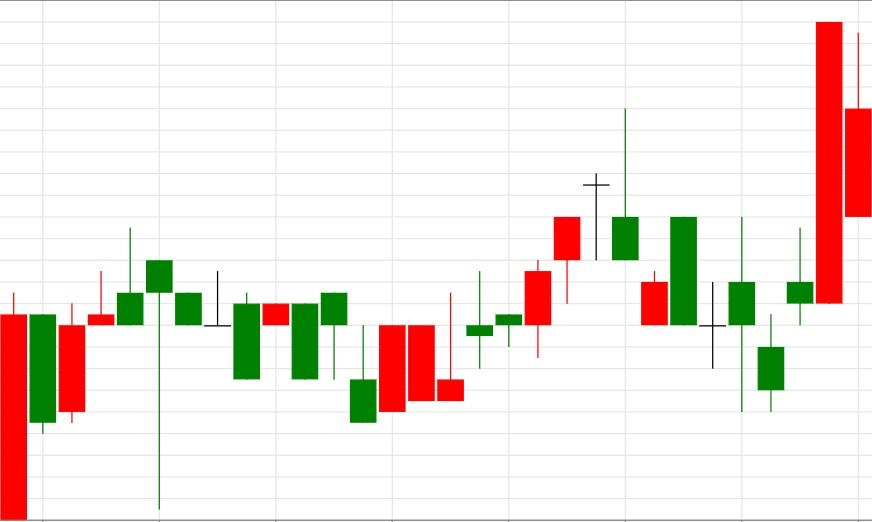hanging_man_fall: (0, 228, 173, 521)
